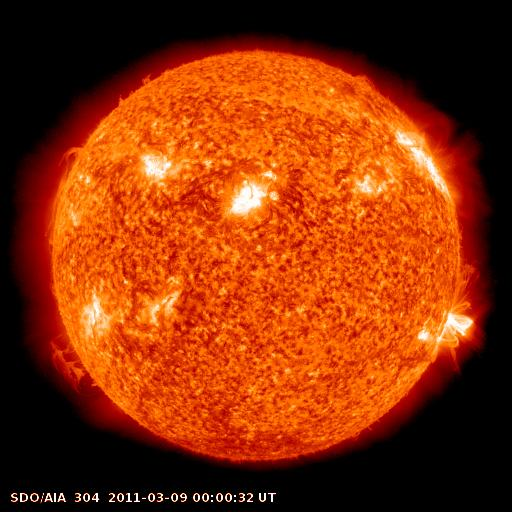prominence: (39, 139, 90, 260), (36, 328, 104, 401), (346, 61, 388, 100)
